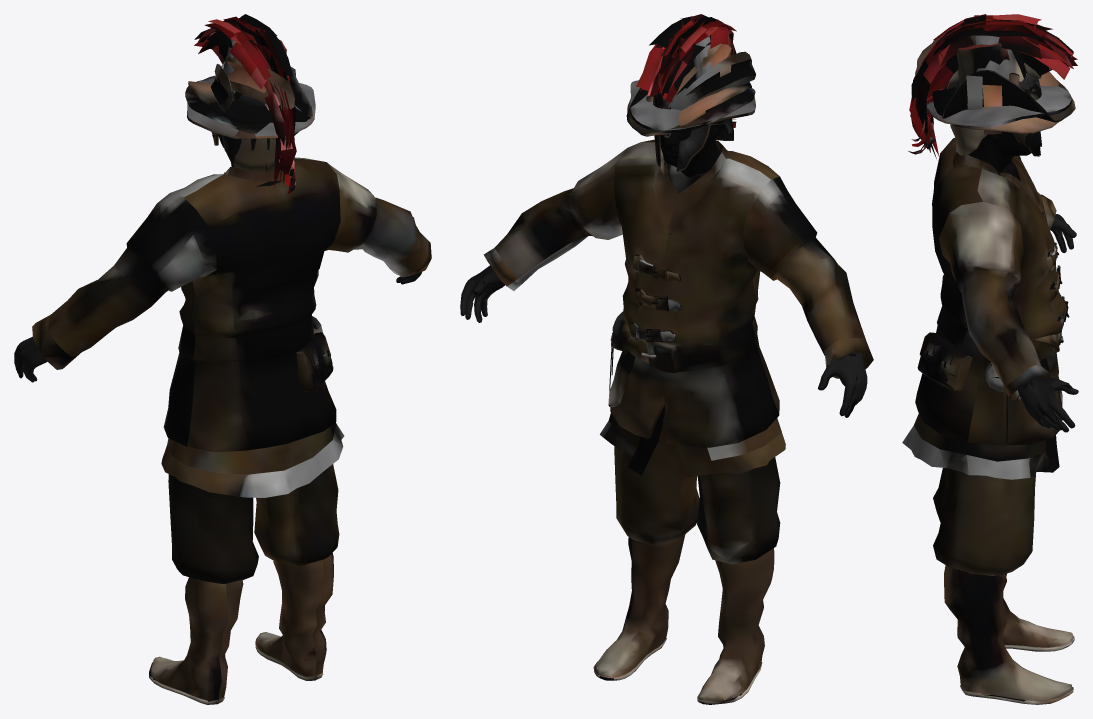
The picture shows the model from 3 angles, left to right: view 1: azimuth 30°, elevation 25°; view 2: azimuth 150°, elevation 25°; view 3: azimuth 270°, elevation 25°; orthographic projection. The views are drawn at different scales.
Visible parts, largest first — view 1: mesh_0; view 2: mesh_0; view 3: mesh_0.
Part boxes in pixels (x1,y1,x2,y2): mesh_0: (14, 14, 431, 704); mesh_0: (460, 14, 873, 704); mesh_0: (902, 14, 1078, 704).
Size of the model in its own units: 49.97 by 78.34 by 19.2.
Materials: 1 (1 with a texture image).
